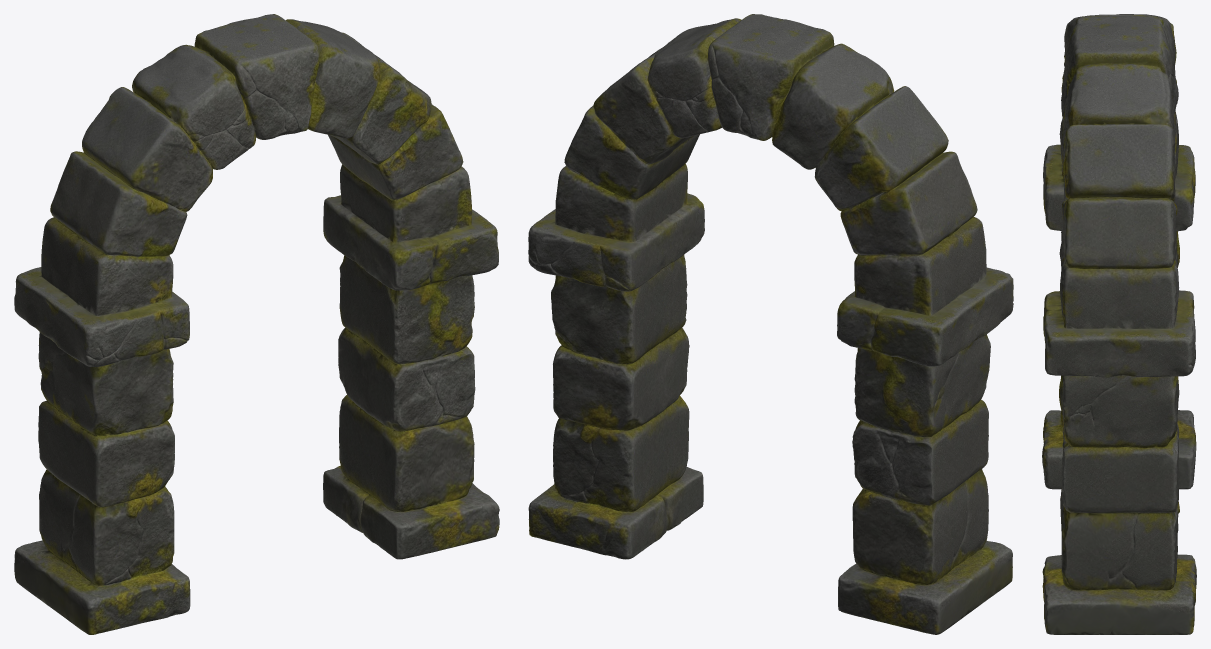
Rendered from moss_arch.glb.
3 renders of one model, left to right at view 1: azimuth 30°, elevation 25°; view 2: azimuth 150°, elevation 25°; view 3: azimuth 270°, elevation 25°, orthographic. The views are drawn at different scales.
Parts seen in each view (by area): view 1: moss_arch; view 2: moss_arch; view 3: moss_arch.
Boxes of the visible parts, x1,y1,x2,y2 form: moss_arch: (14,14,499,634); moss_arch: (528,14,1013,634); moss_arch: (1042,14,1196,634).
Size of the model in its own units: 1.57 by 1.9 by 0.5267.
Materials: 1 (1 with a texture image).
